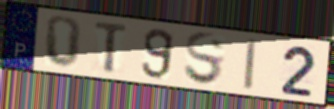0: (43, 14, 83, 70)
2: (277, 42, 321, 100)
9: (139, 27, 175, 80)
I: (242, 37, 259, 93)
S: (182, 31, 227, 88)
T: (93, 19, 130, 75)
